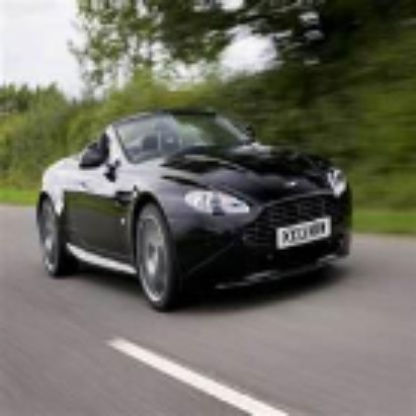Vehicle: (33, 101, 361, 338)
